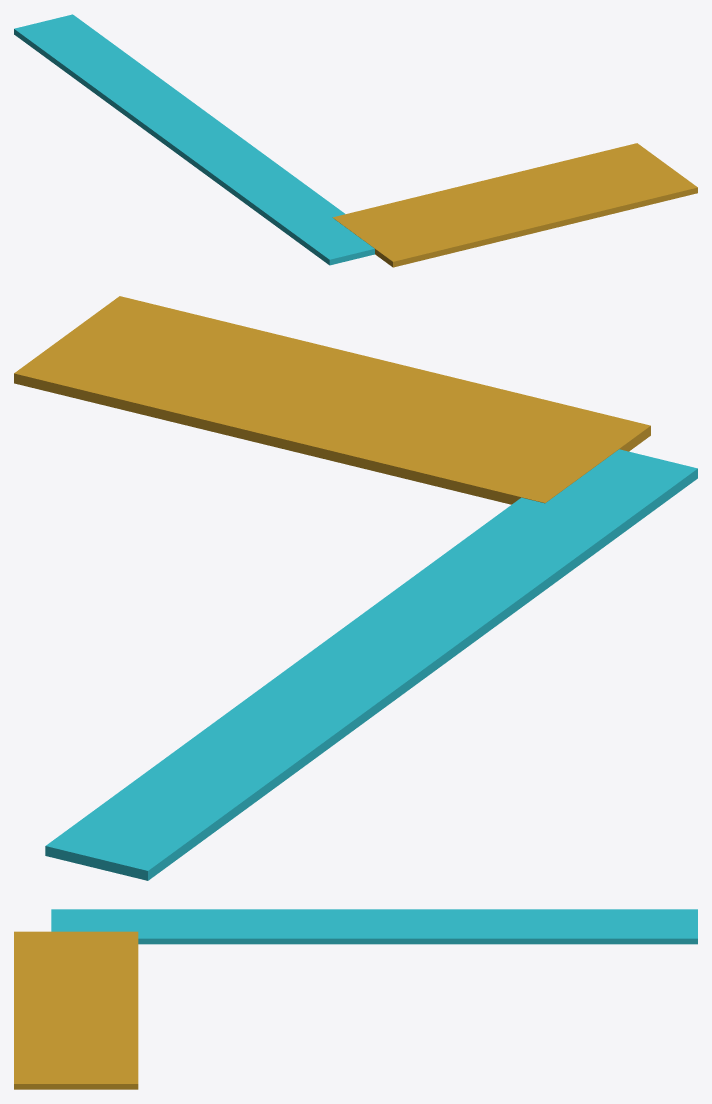
Rendered from route.stack_right.glb.
3 views of the same model, one above another, from view 1: azimuth 30°, elevation 25°; view 2: azimuth 150°, elevation 25°; view 3: azimuth 270°, elevation 25° (orthographic). The views are drawn at different scales.
Parts seen in each view (by area): view 1: stack_arrow, stack_line; view 2: stack_arrow, stack_line; view 3: stack_line, stack_arrow.
Part boxes in pixels (bbox=[...]): stack_arrow: bbox=[332, 143, 697, 267]; stack_line: bbox=[14, 14, 374, 265]; stack_arrow: bbox=[14, 296, 650, 504]; stack_line: bbox=[45, 449, 697, 880]; stack_line: bbox=[51, 909, 697, 944]; stack_arrow: bbox=[14, 931, 138, 1089].
Bounding box in the file's own units: 1.67 × 0.027 × 2.75.
